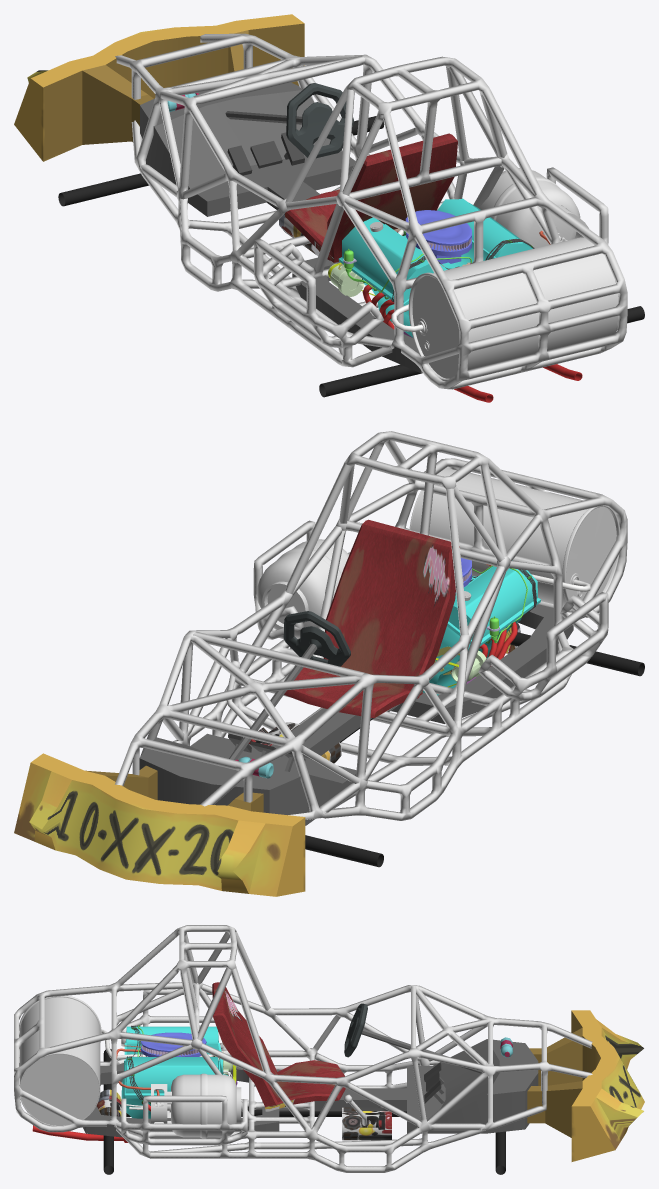
The model's file is player_car.fbx.
3 renders of one model, top to bottom at view 1: azimuth 30°, elevation 25°; view 2: azimuth 150°, elevation 25°; view 3: azimuth 270°, elevation 25°, orthographic. The views are drawn at different scales.
Parts seen in each view (by area): view 1: Metal Bars, Bumper, Fuel Barrel, Car Base, Engine, Chair, Steering_Wheel, Propane Tank, Wheel_Shift_B, Wheel_Shift_F, Pedal_Brake; view 2: Metal Bars, Bumper, Chair, Car Base, Fuel Barrel, Engine, Propane Tank, Steering_Wheel, Wheel_Shift_F, Wheel_Shift_B; view 3: Metal Bars, Bumper, Car Base, Fuel Barrel, Engine, Chair, Propane Tank, Transmission, Steering_Wheel, Wheel_Shift_B, Wheel_Shift_F.
Part boxes in pixels (x1,y1,x2,y2): Metal Bars: (115, 33, 627, 389); Bumper: (14, 14, 304, 161); Fuel Barrel: (408, 236, 618, 381); Car Base: (140, 82, 422, 373); Engine: (328, 198, 582, 402); Chair: (285, 133, 457, 262); Steering_Wheel: (225, 83, 353, 158); Propane Tank: (479, 168, 588, 248); Wheel_Shift_B: (319, 306, 644, 397); Wheel_Shift_F: (58, 116, 384, 206); Pedal_Brake: (250, 141, 282, 168); Metal Bars: (115, 431, 627, 820); Bumper: (14, 753, 305, 896); Chair: (284, 519, 459, 718); Car Base: (139, 604, 573, 825); Fuel Barrel: (409, 467, 620, 610); Engine: (422, 558, 590, 695); Propane Tank: (257, 539, 348, 638); Steering_Wheel: (229, 611, 350, 760); Wheel_Shift_F: (305, 835, 383, 867); Wheel_Shift_B: (504, 623, 644, 676); Metal Bars: (14, 925, 592, 1172); Bumper: (527, 1010, 644, 1161); Car Base: (83, 1039, 538, 1138); Fuel Barrel: (19, 995, 101, 1126); Engine: (32, 1025, 237, 1142); Chair: (212, 982, 345, 1111); Propane Tank: (151, 1073, 241, 1138); Transmission: (126, 1106, 406, 1140); Steering_Wheel: (344, 1003, 482, 1073); Wheel_Shift_B: (96, 1049, 121, 1174); Wheel_Shift_F: (495, 1131, 505, 1174).
Size of the model in its own units: 2.4 by 5.48 by 1.8.
